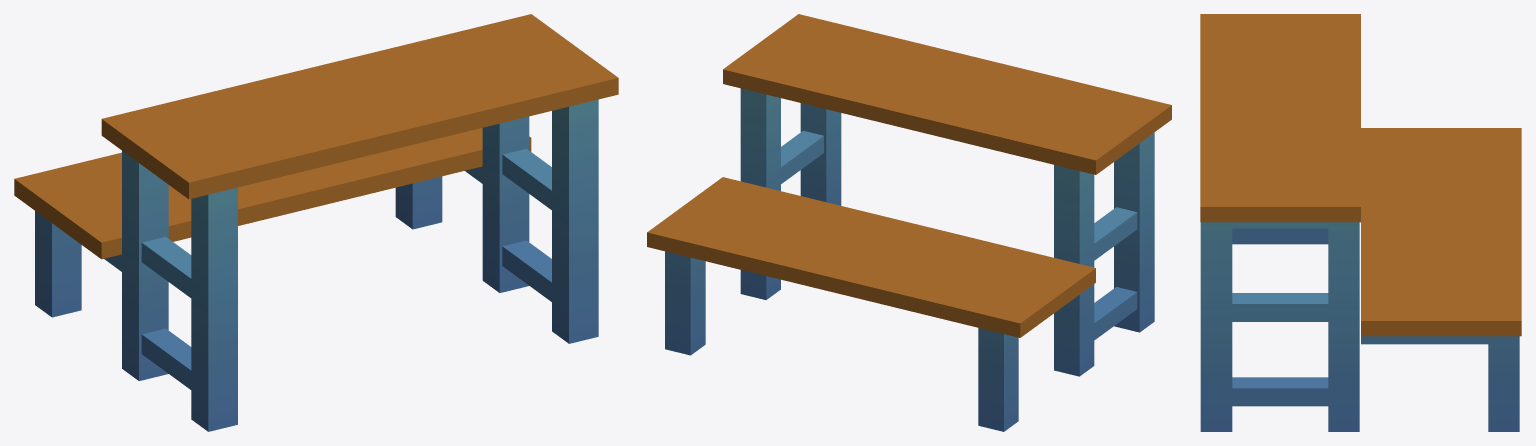
Rendered from Bench_1_B_6.fbx.
3 renders of one model, left to right at view 1: azimuth 30°, elevation 25°; view 2: azimuth 150°, elevation 25°; view 3: azimuth 270°, elevation 25°, orthographic. The views are drawn at different scales.
Parts seen in each view (by area): view 1: Bench_1_B_6; view 2: Bench_1_B_6; view 3: Bench_1_B_6.
Boxes of the visible parts, x1=… form: Bench_1_B_6: x1=14, y1=14, x2=618, y2=431; Bench_1_B_6: x1=647, y1=14, x2=1171, y2=431; Bench_1_B_6: x1=1200, y1=14, x2=1521, y2=431.
Size of the model in its own units: 116 by 65.4 by 81.37.
